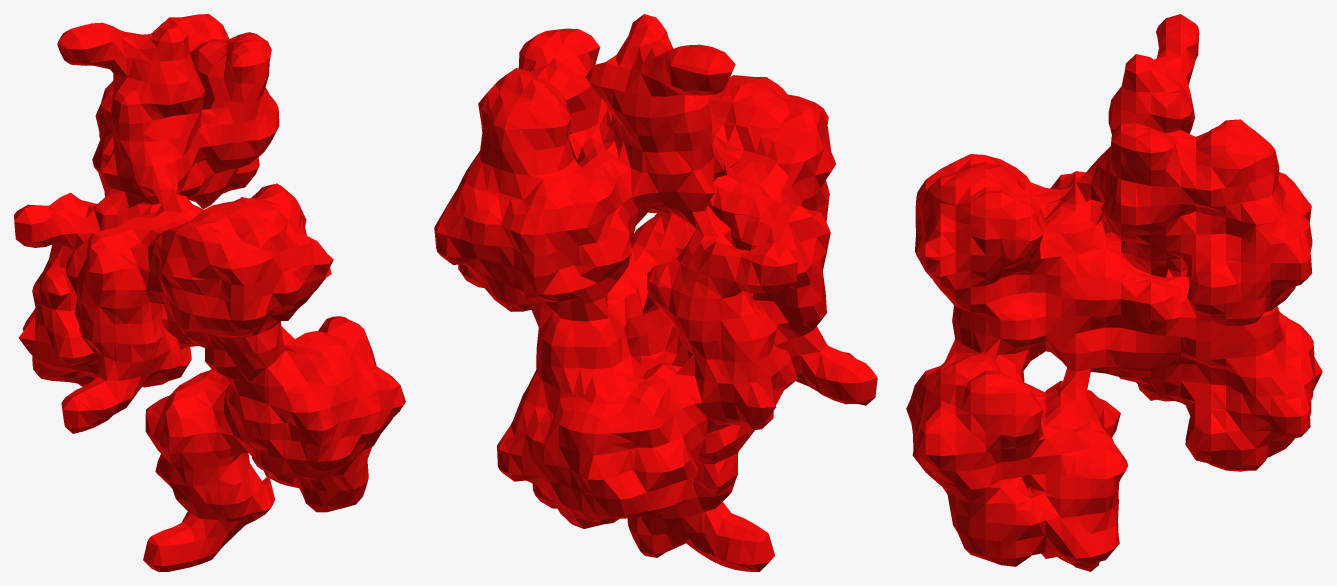
File: rnb_coarse.dae
3 renders of one model, left to right at view 1: azimuth 30°, elevation 25°; view 2: azimuth 150°, elevation 25°; view 3: azimuth 270°, elevation 25°, orthographic. The views are drawn at different scales.
Visible parts, largest first — view 1: rnb; view 2: rnb; view 3: rnb.
Part boxes in pixels (x1=…): rnb: x1=14, y1=14, x2=405, y2=571; rnb: x1=434, y1=14, x2=877, y2=571; rnb: x1=906, y1=14, x2=1322, y2=571.
Size of the model in its own units: 108 by 182 by 134.
